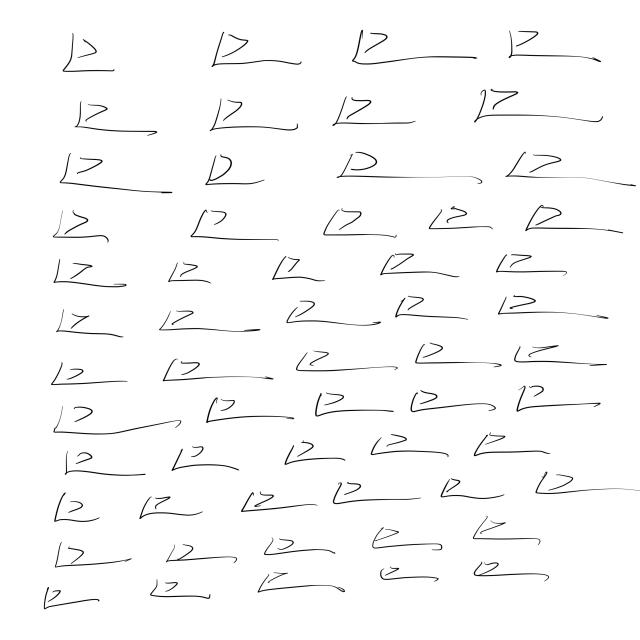Command: (497, 141, 632, 196), (465, 82, 606, 134), (35, 394, 175, 445), (202, 20, 310, 85), (344, 21, 481, 72), (311, 146, 460, 186), (495, 13, 600, 67), (205, 90, 308, 142), (59, 152, 164, 203), (40, 22, 136, 77), (152, 297, 258, 340), (522, 202, 621, 246), (507, 336, 611, 377), (51, 446, 156, 486), (188, 205, 278, 250), (494, 290, 604, 326), (366, 245, 458, 288), (156, 354, 267, 389), (472, 415, 555, 461), (333, 93, 428, 133), (28, 307, 127, 344), (461, 509, 546, 551), (188, 394, 292, 428), (41, 256, 135, 293), (534, 466, 630, 502), (314, 206, 399, 246), (504, 382, 610, 414), (245, 568, 355, 598), (67, 102, 156, 139), (48, 210, 137, 247), (401, 336, 487, 374), (294, 345, 381, 381), (39, 492, 107, 538), (424, 199, 498, 240), (456, 555, 559, 584), (162, 439, 247, 474), (282, 299, 374, 331), (329, 476, 418, 509), (228, 484, 319, 516), (131, 491, 213, 526), (367, 520, 445, 556), (41, 357, 131, 388), (391, 289, 468, 325), (488, 248, 574, 280), (429, 474, 517, 505), (27, 580, 117, 610), (196, 152, 263, 192), (308, 388, 394, 419), (403, 385, 486, 417), (274, 436, 352, 470), (43, 542, 145, 568), (134, 577, 222, 605), (367, 427, 442, 459), (154, 256, 218, 292), (374, 556, 446, 588), (159, 539, 242, 566), (264, 253, 330, 286), (256, 531, 336, 557)
